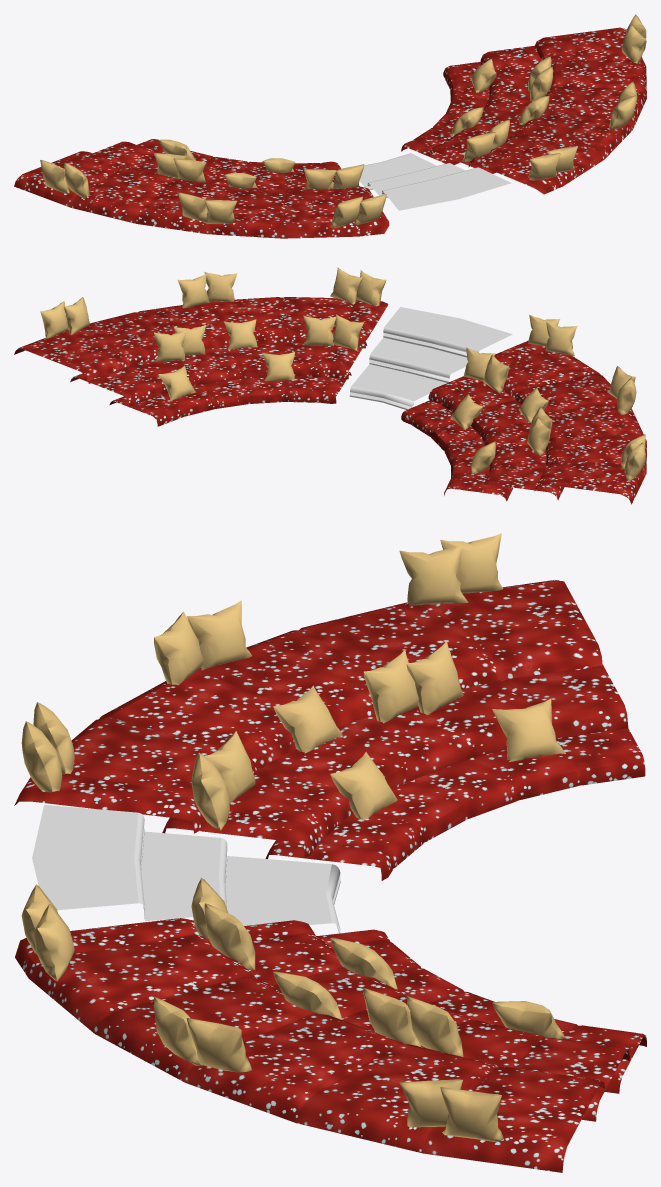
Rendered from stagesitarea.glb.
3 views of the same model, one above another, from view 1: azimuth 30°, elevation 25°; view 2: azimuth 150°, elevation 25°; view 3: azimuth 270°, elevation 25° (orthographic). The views are drawn at different scales.
Parts seen in each view (by area): view 1: StageSitArea; view 2: StageSitArea; view 3: StageSitArea.
Part boxes in pixels (x1,y1,x2,y2): StageSitArea: [14, 14, 646, 238]; StageSitArea: [14, 267, 646, 504]; StageSitArea: [14, 533, 646, 1172].
Size of what is drawn, in the model's own units: 20.47 by 1.64 by 9.39.
4 materials, 2 textured.
